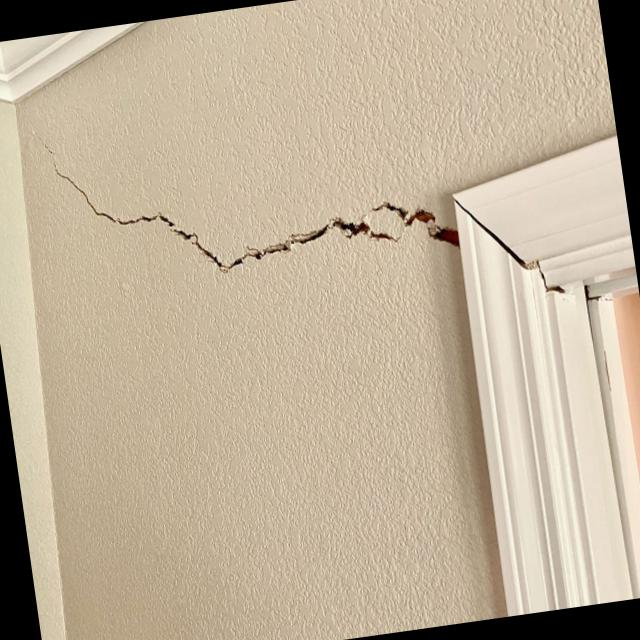crack: (36, 74, 460, 306), (456, 178, 570, 304)
